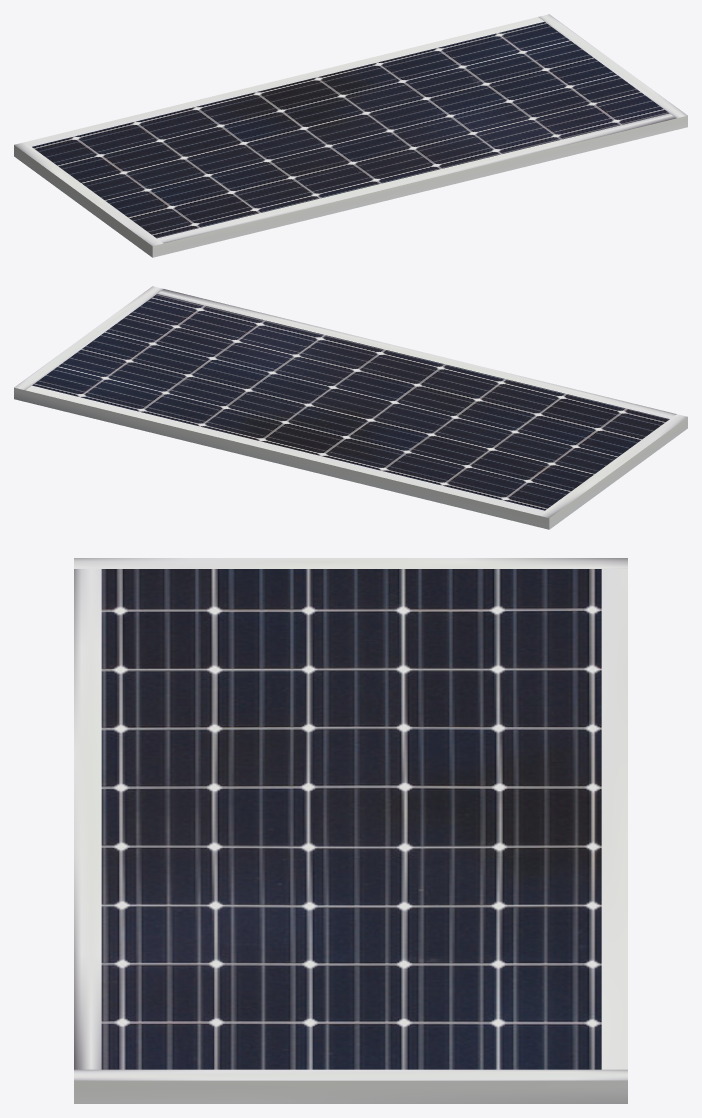
File: panel4.glb
3 renders of one model, top to bottom at view 1: azimuth 30°, elevation 25°; view 2: azimuth 150°, elevation 25°; view 3: azimuth 270°, elevation 25°, orthographic. The views are drawn at different scales.
Parts seen in each view (by area): view 1: Cube; view 2: Cube; view 3: Cube.
Boxes of the visible parts, x1=… form: Cube: x1=14, y1=14, x2=687, y2=257; Cube: x1=14, y1=286, x2=687, y2=529; Cube: x1=74, y1=558, x2=627, y2=1103.
Bounding box in the file's own units: 5.8 × 0.12 × 2.6.
1 material, 1 textured.
